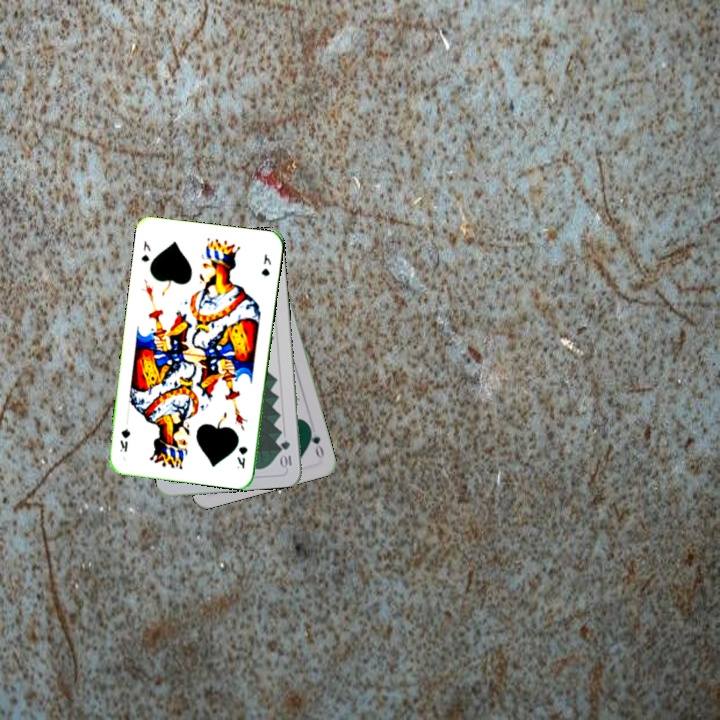G10: (277, 437, 294, 471)
GK: (233, 442, 250, 471), (137, 237, 153, 264)
GO: (305, 422, 326, 461)
